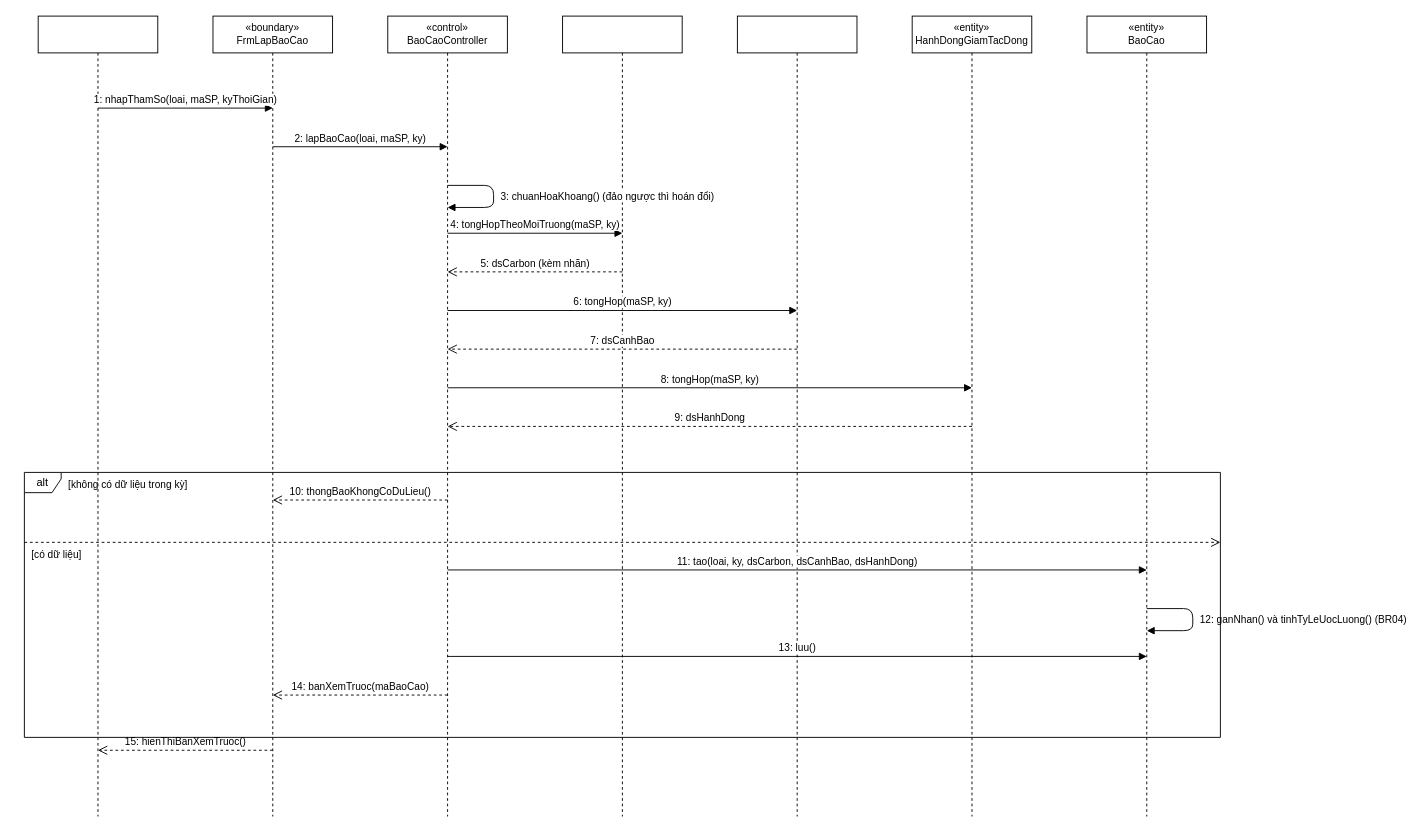
This 1423x833 diagram has some shape labels left out. Each missing label, with the box of its shape:
«actor» NguoiDung: (37, 15, 158, 816)
«entity» CanhBao: (736, 15, 857, 816)
«entity» KetQuaCarbon: (562, 15, 682, 816)
